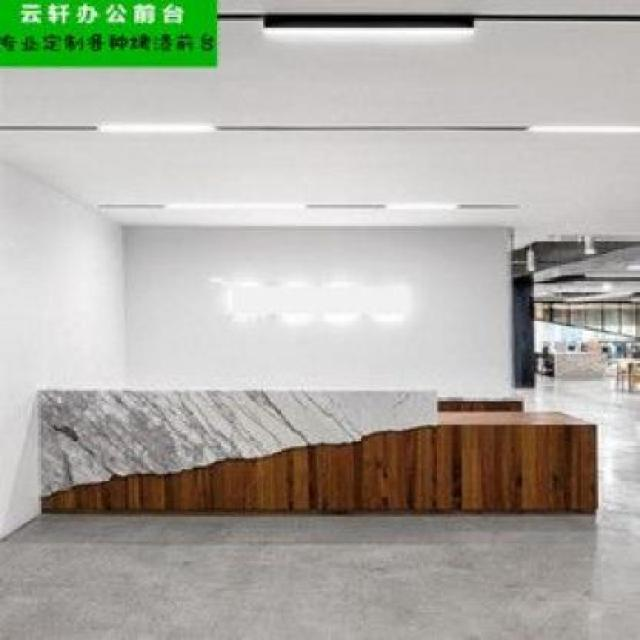frontdesk: (28, 374, 609, 527)
